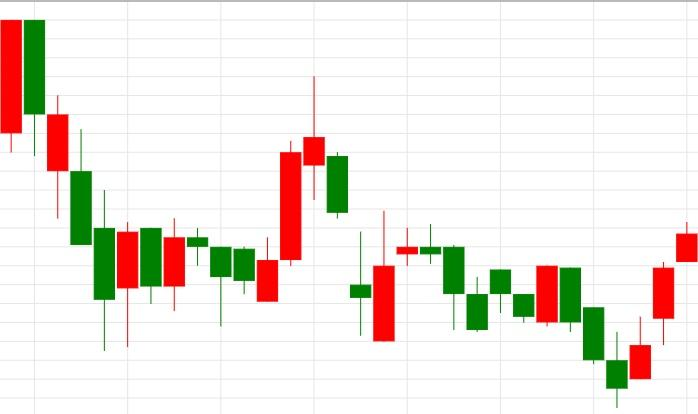three_white_soldiers_rise: (560, 222, 698, 408)
